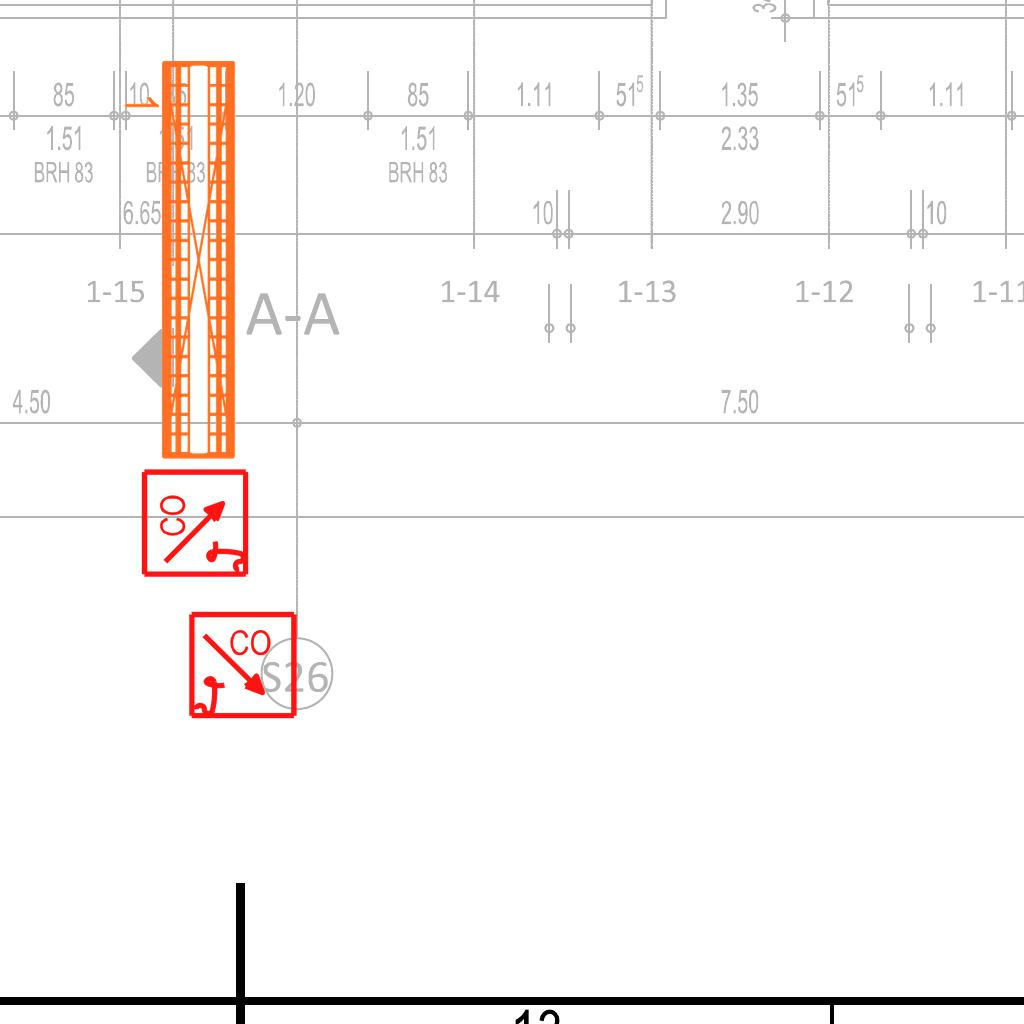Buero_Pendelleuchten_LED: (115, 54, 245, 467)
ROA_Rauchmelder_optisch_mit_Signalgeber_(Sockelsirene): (187, 610, 300, 723), (140, 466, 253, 579)
